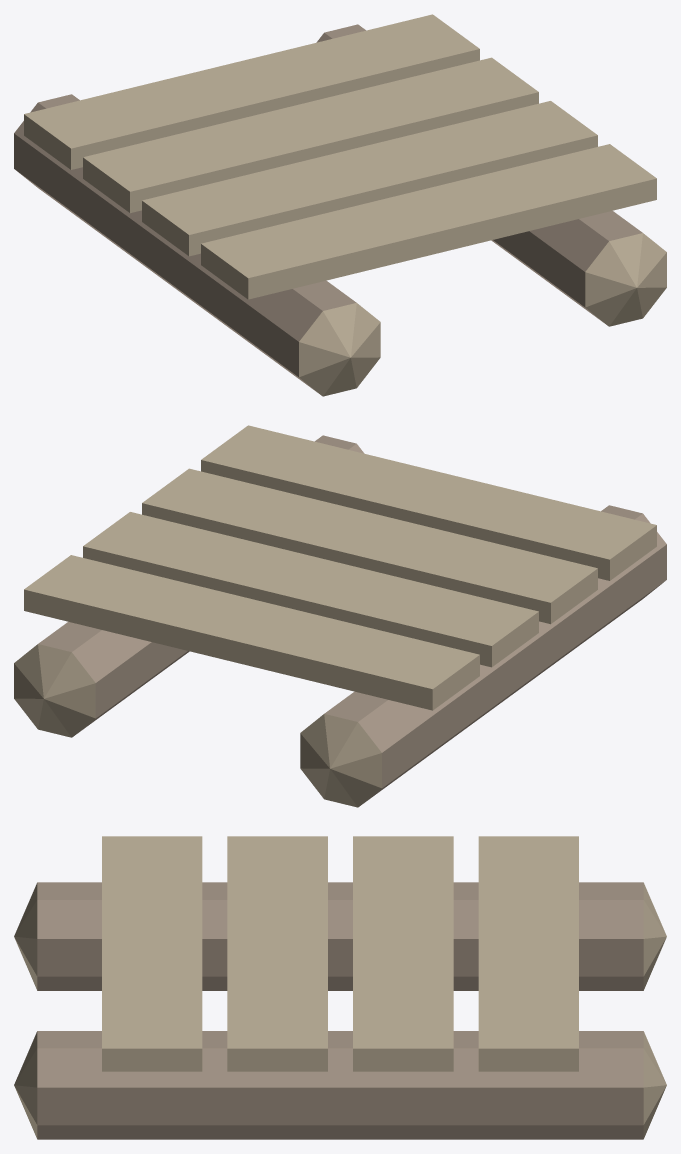
File: Prop_Docks_Straight.glb
3 renders of one model, top to bottom at view 1: azimuth 30°, elevation 25°; view 2: azimuth 150°, elevation 25°; view 3: azimuth 270°, elevation 25°, orthographic. The views are drawn at different scales.
Parts seen in each view (by area): view 1: Prop_Docks_Straight_Merged; view 2: Prop_Docks_Straight_Merged; view 3: Prop_Docks_Straight_Merged.
Part boxes in pixels (x1,y1,x2,y2): Prop_Docks_Straight_Merged: (14,14,666,396); Prop_Docks_Straight_Merged: (14,425,666,807); Prop_Docks_Straight_Merged: (14,836,666,1139).
Bounding box in the file's own units: 1 × 0.25 × 1.3.
